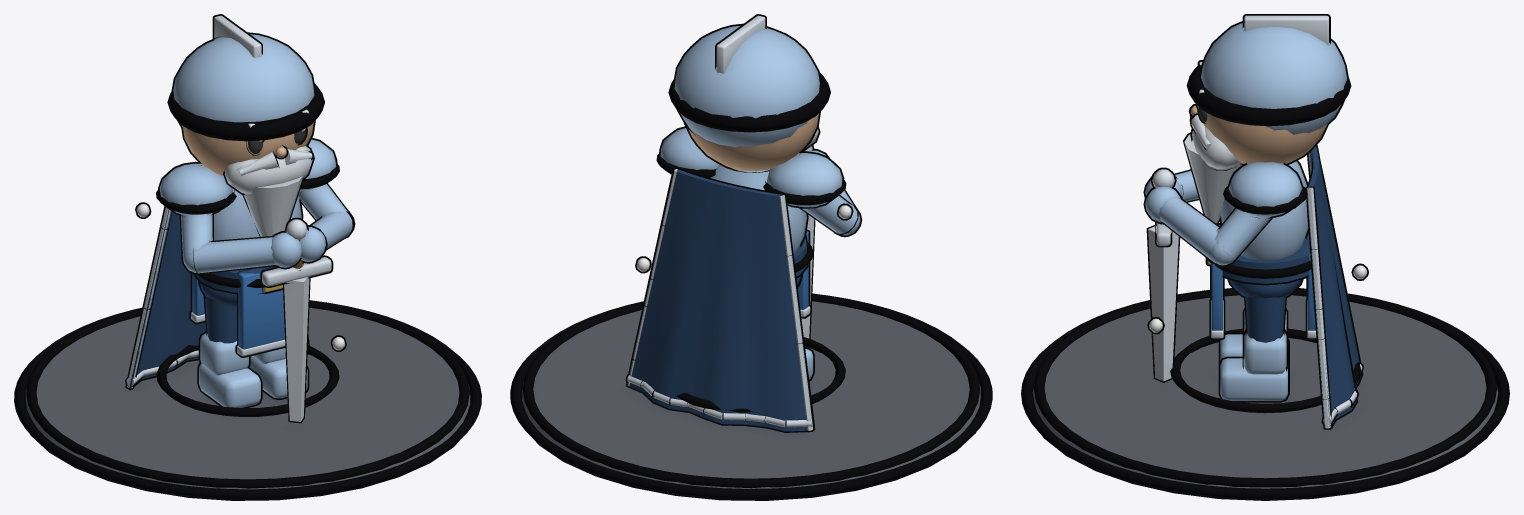
File: spirit_knight_s2.fbx
3 renders of one model, left to right at view 1: azimuth 30°, elevation 25°; view 2: azimuth 150°, elevation 25°; view 3: azimuth 270°, elevation 25°, orthographic. The views are drawn at different scales.
Parts seen in each view (by area): view 1: spirit_knight_s2; view 2: spirit_knight_s2; view 3: spirit_knight_s2.
Part boxes in pixels (bbox=[...]): spirit_knight_s2: bbox=[14, 14, 481, 500]; spirit_knight_s2: bbox=[510, 14, 992, 500]; spirit_knight_s2: bbox=[1021, 14, 1509, 500].
Size of the model in its own units: 3.28 by 2.85 by 3.28.
2 materials, 1 textured.
